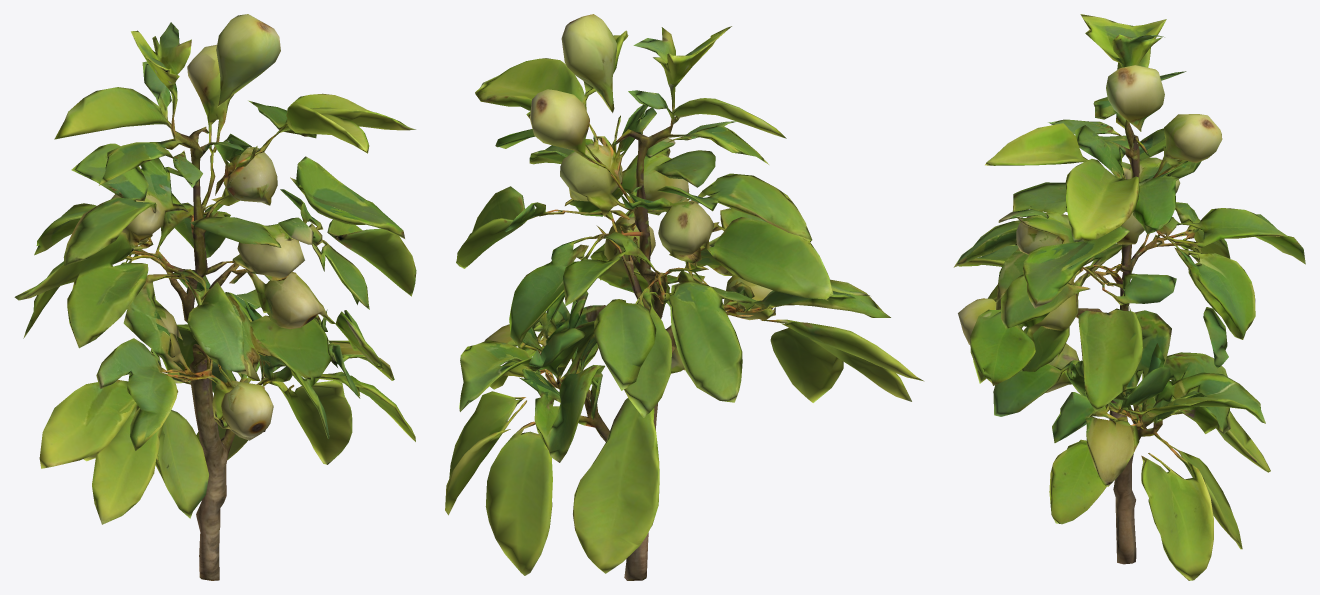
Rendered from Amla.glb.
3 views of the same model, side by side, from view 1: azimuth 30°, elevation 25°; view 2: azimuth 150°, elevation 25°; view 3: azimuth 270°, elevation 25° (orthographic). The views are drawn at different scales.
Parts seen in each view (by area): view 1: Object_4; view 2: Object_4; view 3: Object_4.
Boxes of the visible parts, x1,y1,x2,y2 form: Object_4: (14, 14, 416, 580); Object_4: (445, 14, 924, 580); Object_4: (953, 14, 1305, 580).
Bounding box in the file's own units: 1.58 × 2 × 1.24.
1 material, 1 textured.
